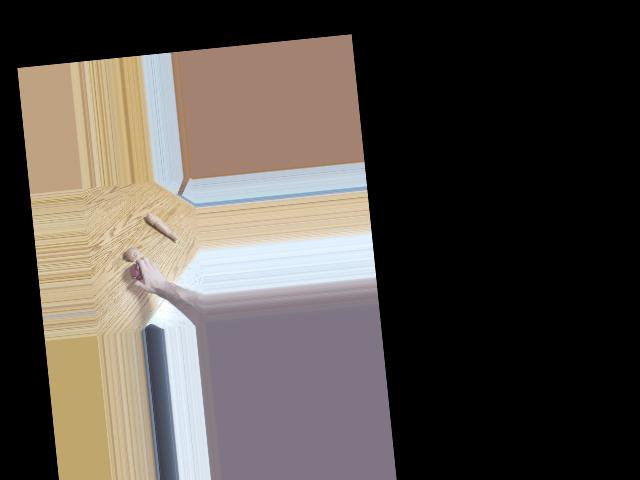onion: (129, 262, 147, 281)
